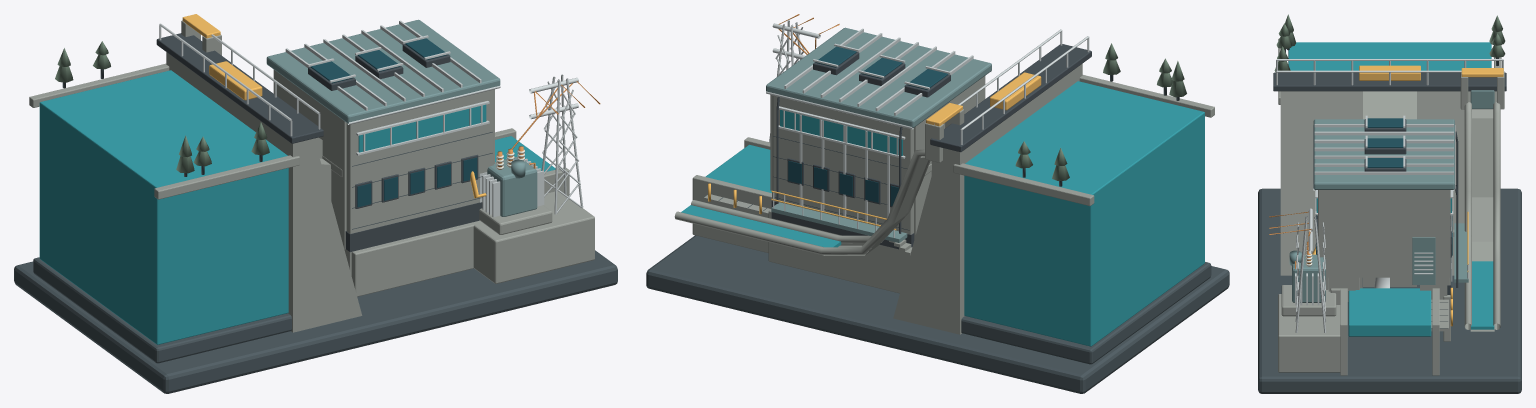
The model's file is hydroelectric.glb.
The picture shows the model from 3 angles, left to right: view 1: azimuth 30°, elevation 25°; view 2: azimuth 150°, elevation 25°; view 3: azimuth 270°, elevation 25°; orthographic projection. The views are drawn at different scales.
Parts seen in each view (by area): view 1: reservoir__Water, terrain__Basalt, facade__Concrete, powerhouse__Concrete, dam__Concrete, roof__Steel, dam__Graphite, facade__Graphite, roof__Silver, terrain__Concrete, grid__Silver, facade__Water (+13 smaller); view 2: reservoir__Water, terrain__Basalt, facade__Concrete, conduit_cover__Concrete, roof__Steel, spillway__Concrete, dam__Graphite, roof__Silver, terrain__Concrete, tailrace__Concrete, facade__Silver, facade__Graphite (+14 smaller); view 3: terrain__Basalt, facade__Concrete, spillway__Concrete, dam__Concrete, roof__Steel, reservoir__Water, conduit_cover__Concrete, tailrace__Water, roof__Silver, powerhouse__Concrete, dam__Graphite, spillway__Water (+17 smaller).
Part boxes in pixels (x1,y1,x2,y2): reservoir__Water: (39, 70, 288, 344); terrain__Basalt: (14, 250, 617, 393); facade__Concrete: (273, 70, 494, 249); powerhouse__Concrete: (320, 155, 594, 296); dam__Concrete: (245, 110, 362, 332); roof__Steel: (266, 19, 500, 123); dam__Graphite: (156, 33, 323, 143); facade__Graphite: (345, 154, 482, 252); roof__Silver: (266, 20, 500, 124); terrain__Concrete: (29, 63, 299, 199); grid__Silver: (529, 74, 583, 214); facade__Water: (358, 104, 486, 152); reservoir__Water: (964, 81, 1204, 346); terrain__Basalt: (646, 235, 1229, 393); facade__Concrete: (768, 76, 985, 293); conduit_cover__Concrete: (893, 97, 1036, 334); roof__Steel: (766, 27, 991, 127); spillway__Concrete: (674, 109, 964, 255); dam__Graphite: (930, 44, 1091, 152); roof__Silver: (766, 28, 991, 129); terrain__Concrete: (953, 75, 1214, 205); tailrace__Concrete: (692, 137, 771, 252); facade__Silver: (778, 106, 905, 223); facade__Graphite: (771, 97, 914, 249); terrain__Basalt: (1258, 188, 1521, 393); facade__Concrete: (1318, 190, 1450, 341); spillway__Concrete: (1460, 71, 1504, 331); dam__Concrete: (1280, 91, 1362, 275); roof__Steel: (1313, 119, 1454, 189); reservoir__Water: (1288, 42, 1491, 70); conduit_cover__Concrete: (1363, 91, 1496, 286); tailrace__Water: (1348, 288, 1431, 336); roof__Silver: (1313, 115, 1455, 190); powerhouse__Concrete: (1278, 244, 1362, 372); dam__Graphite: (1273, 72, 1506, 91); spillway__Water: (1471, 261, 1494, 329).
Size of the model in its own units: 12 by 6.04 by 7.
